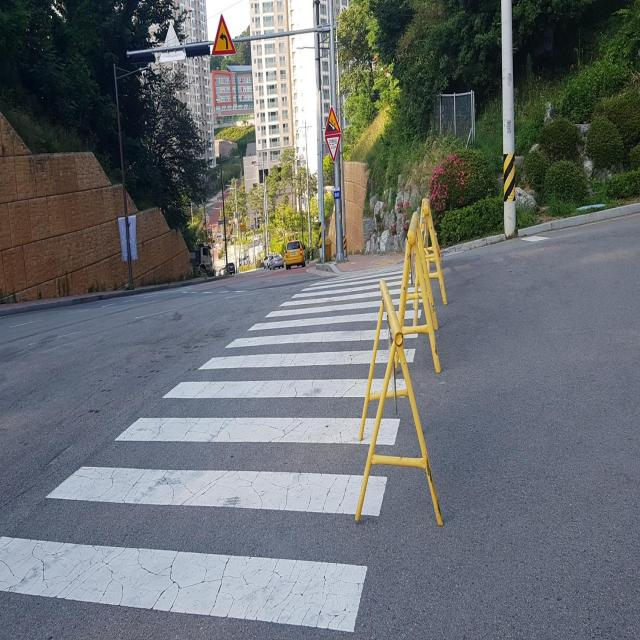횡단보도: (0, 260, 425, 634)
